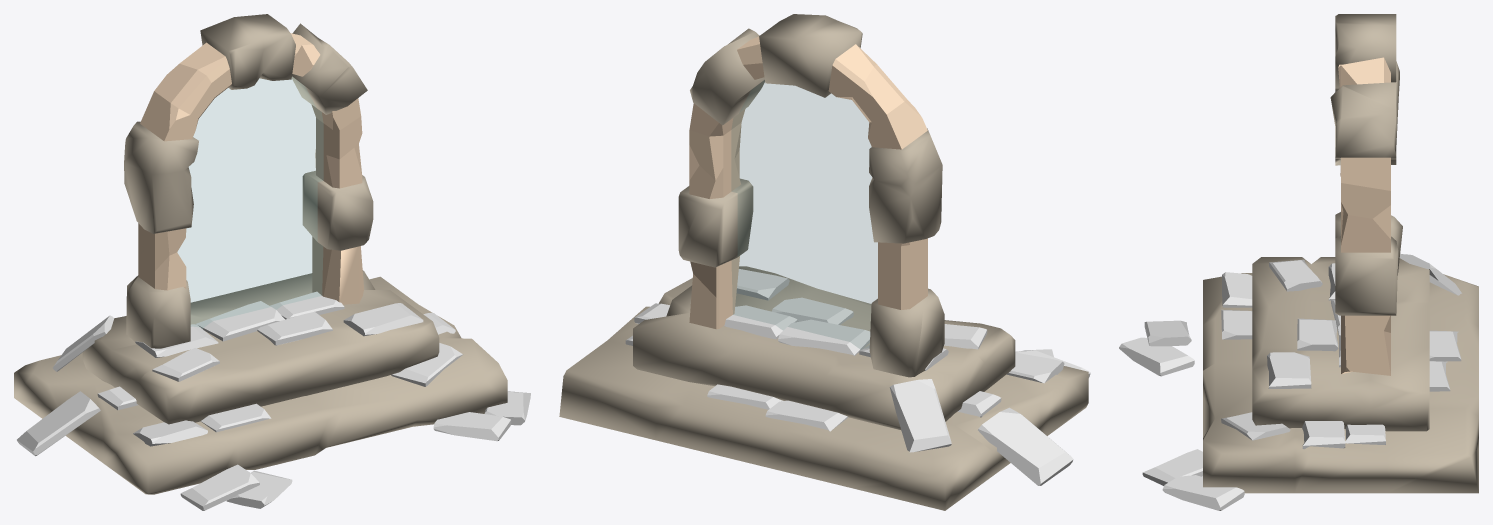
Rendered from portal.glb.
3 renders of one model, left to right at view 1: azimuth 30°, elevation 25°; view 2: azimuth 150°, elevation 25°; view 3: azimuth 270°, elevation 25°, orthographic. The views are drawn at different scales.
Visible parts, largest first — view 1: Plane.003, Plane.004, Plane.002, Plane.001, Plane, Cube.009, Cube.003, Cube.019, Cube.016, Stone Slab, Cube.015, Cube.004 (+9 smaller); view 2: Plane.004, Plane.003, Plane.001, Plane.002, Plane, Cube.009, Cube.014, Cube.003, Cube.005, Cube.013, Cube.015, Stone Slab (+4 smaller); view 3: Plane.004, Plane.002, Plane.001, Plane, Cube.017, Cube.018, Stone Slab, Cube.015, Cube.016, Cube.004, Cube.011, Cube.019 (+7 smaller).
Boxes of the visible parts, <box> form: Plane.003: <box>178,77,323,328</box>; Plane.004: <box>14,276,507,494</box>; Plane.002: <box>82,270,439,424</box>; Plane.001: <box>124,14,373,348</box>; Plane: <box>138,33,363,304</box>; Cube.009: <box>17,391,100,456</box>; Cube.003: <box>196,301,284,341</box>; Cube.019: <box>180,464,259,510</box>; Cube.016: <box>433,412,511,441</box>; Stone Slab: <box>343,303,423,336</box>; Cube.015: <box>257,311,332,345</box>; Cube.004: <box>152,348,219,381</box>; Plane.004: <box>559,278,1088,510</box>; Plane.003: <box>731,80,877,349</box>; Plane.001: <box>678,14,944,377</box>; Plane.002: <box>633,266,1015,429</box>; Plane: <box>689,36,927,329</box>; Cube.009: <box>978,407,1073,485</box>; Cube.014: <box>889,379,951,452</box>; Cube.003: <box>778,319,870,355</box>; Cube.005: <box>724,305,797,339</box>; Cube.013: <box>765,400,848,431</box>; Cube.015: <box>771,297,853,324</box>; Stone Slab: <box>736,269,789,300</box>; Plane.004: <box>1203,273,1478,493</box>; Plane.002: <box>1252,257,1429,431</box>; Plane.001: <box>1330,14,1402,315</box>; Plane: <box>1338,57,1390,375</box>; Cube.017: <box>1162,475,1244,510</box>; Cube.018: <box>1119,337,1194,376</box>; Stone Slab: <box>1267,352,1311,388</box>; Cube.015: <box>1297,318,1338,351</box>; Cube.016: <box>1142,449,1202,485</box>; Cube.004: <box>1269,259,1322,291</box>; Cube.011: <box>1302,421,1345,449</box>; Cube.019: <box>1144,320,1191,346</box>.
Bounding box in the file's own units: 5.93 × 4.75 × 4.06.
